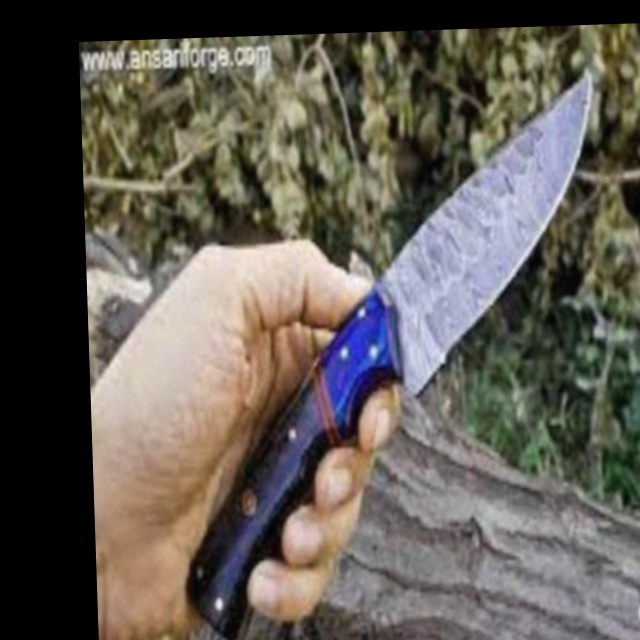Sharp-Object: (170, 79, 611, 640)
